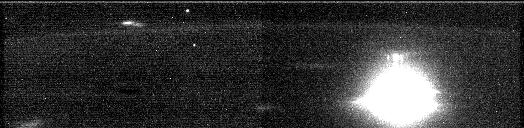positive: (378, 48, 411, 67)
